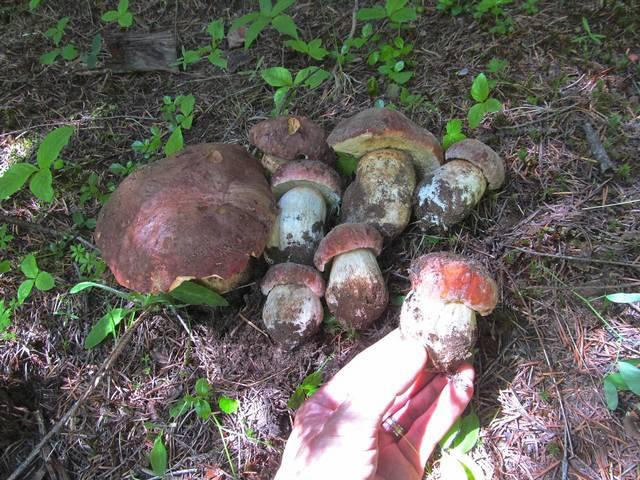edible_mushroom: (260, 111, 514, 374), (92, 140, 277, 297), (398, 250, 499, 374), (312, 221, 388, 331)
